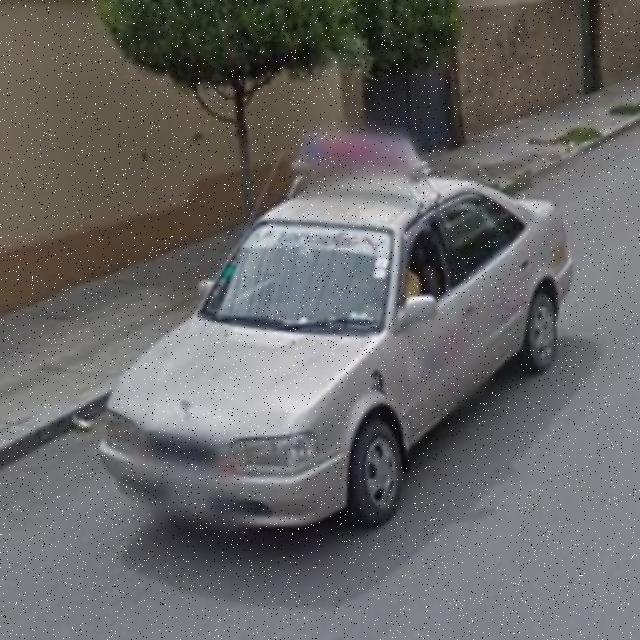cars: (114, 163, 576, 544)
